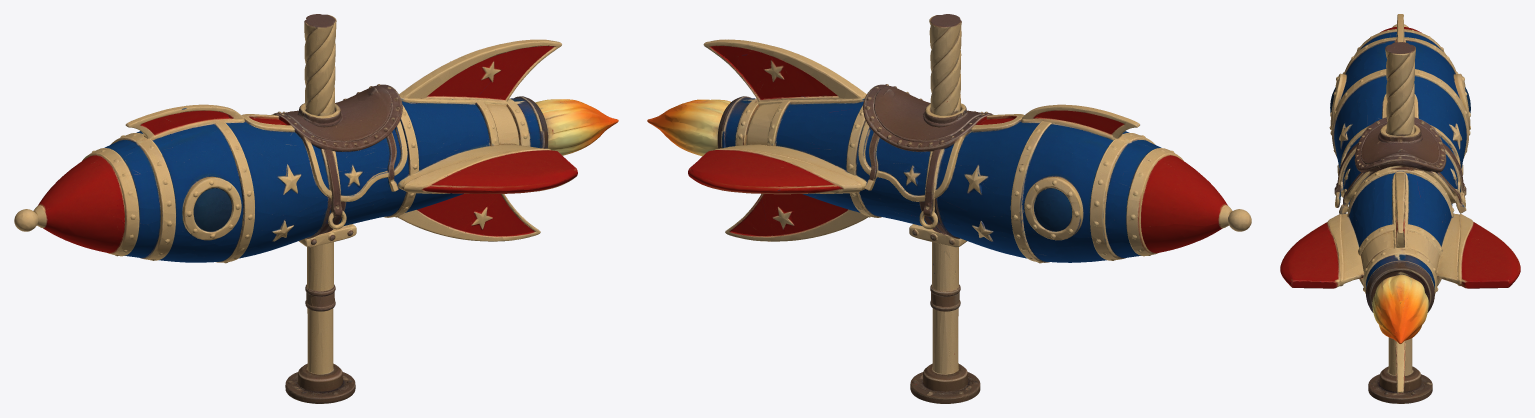
The model's file is rocket-original.glb.
3 renders of one model, left to right at view 1: azimuth 30°, elevation 25°; view 2: azimuth 150°, elevation 25°; view 3: azimuth 270°, elevation 25°, orthographic. The views are drawn at different scales.
Size of the model in its own units: 1.9 by 1.11 by 0.7089.
Materials: 1 (1 with a texture image).
